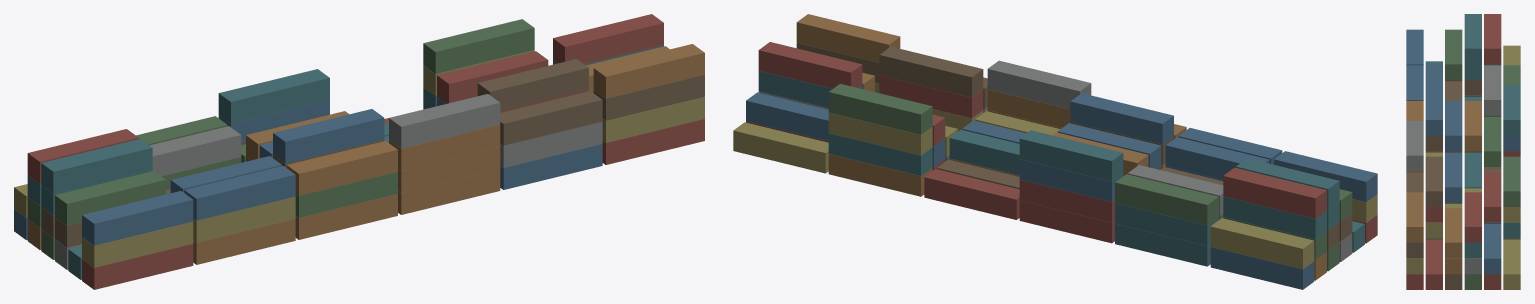
The model's file is container_stack_15.glb.
3 views of the same model, side by side, from view 1: azimuth 30°, elevation 25°; view 2: azimuth 150°, elevation 25°; view 3: azimuth 270°, elevation 25° (orthographic). The views are drawn at different scales.
Parts seen in each view (by area): view 1: LOD0; view 2: LOD0; view 3: LOD0.
Part boxes in pixels (x1,y1,x2,y2): LOD0: (14, 14, 704, 289); LOD0: (733, 14, 1377, 289); LOD0: (1406, 14, 1520, 289).
Size of what is drawn, in the model's own units: 75.2 by 10.38 by 17.1.
